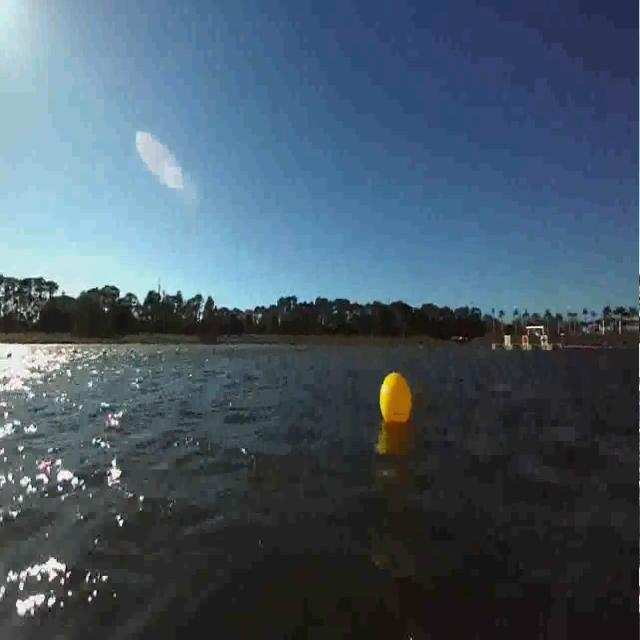yellow-buoy: (379, 371, 412, 426)
